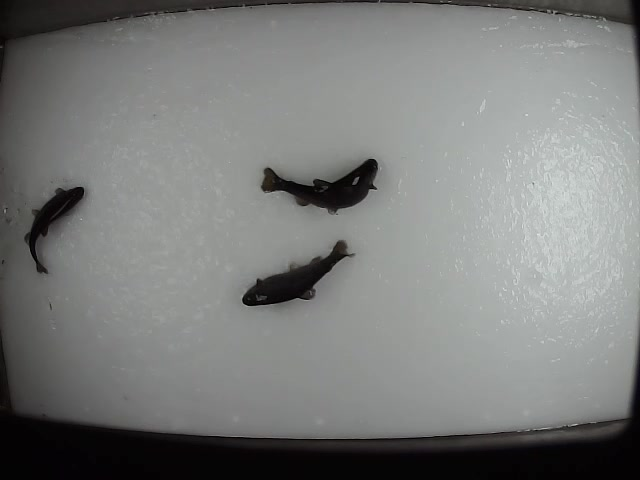Fish: (242, 240, 355, 307), (261, 159, 378, 213), (25, 188, 84, 273)
